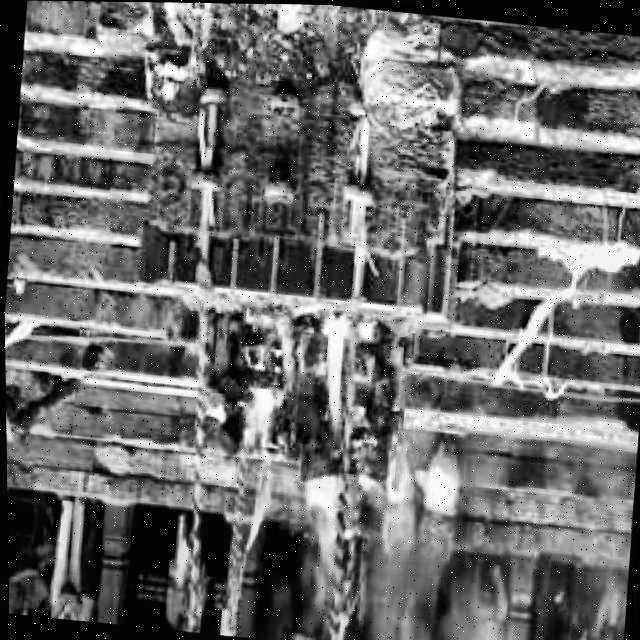Fire: (220, 302, 372, 562)
